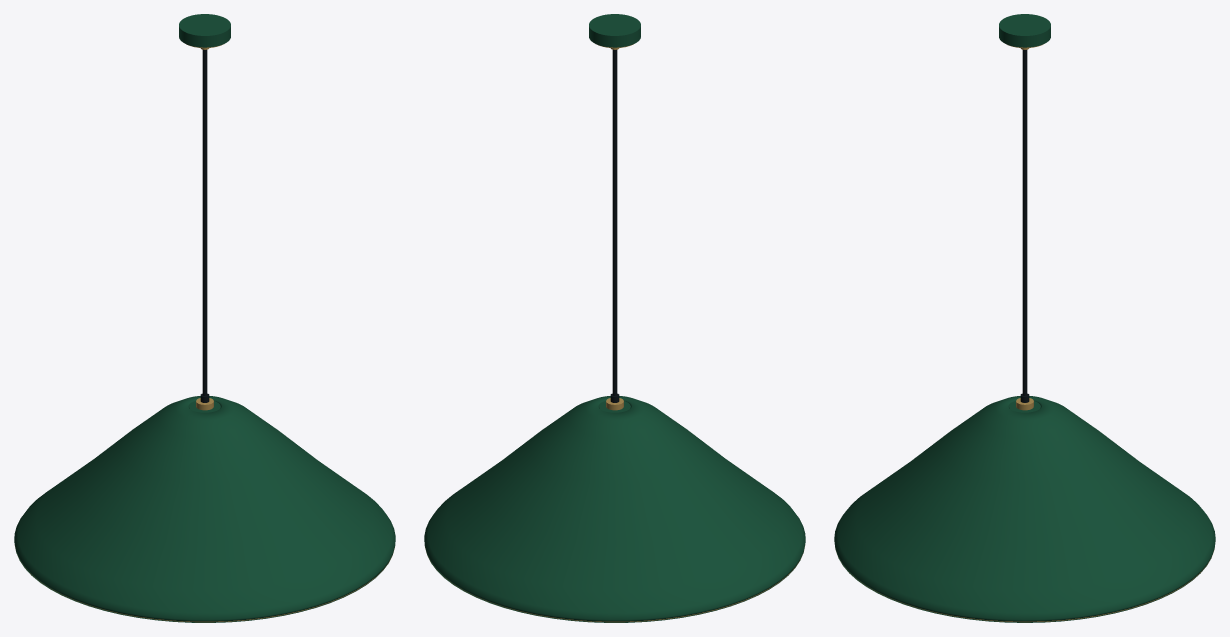
File: pendente_verde_realista.glb
The picture shows the model from 3 angles, left to right: view 1: azimuth 30°, elevation 25°; view 2: azimuth 150°, elevation 25°; view 3: azimuth 270°, elevation 25°; orthographic projection.
Parts seen in each view (by area): view 1: Cupula verde e interior refletor, Cabo de suspensao, Canopla de teto; view 2: Cupula verde e interior refletor, Cabo de suspensao, Canopla de teto; view 3: Cupula verde e interior refletor, Cabo de suspensao, Canopla de teto.
Part boxes in pixels (x1,y1,x2,y2): Cupula verde e interior refletor: [14, 396, 395, 622]; Cabo de suspensao: [202, 49, 207, 395]; Canopla de teto: [179, 14, 230, 47]; Cupula verde e interior refletor: [424, 396, 805, 622]; Cabo de suspensao: [612, 49, 617, 395]; Canopla de teto: [589, 14, 640, 47]; Cupula verde e interior refletor: [834, 396, 1215, 622]; Cabo de suspensao: [1022, 50, 1027, 395]; Canopla de teto: [999, 14, 1050, 47].
Size of the model in its own units: 0.6 by 0.8983 by 0.6.
